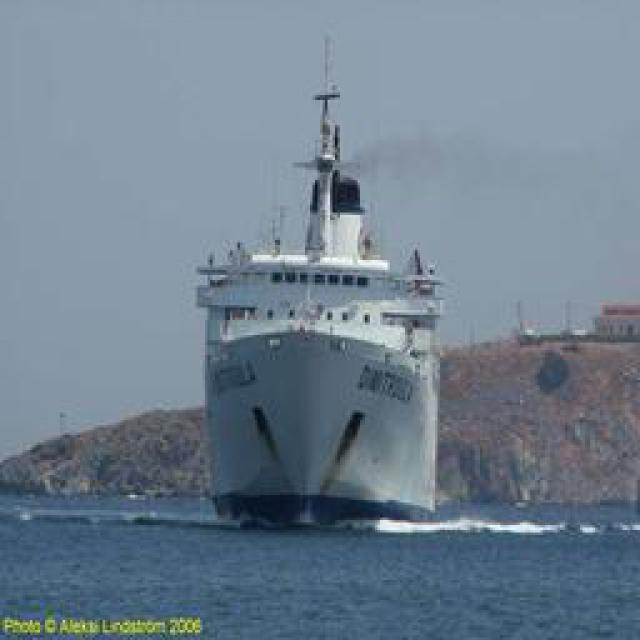Ship: (195, 12, 453, 522)
